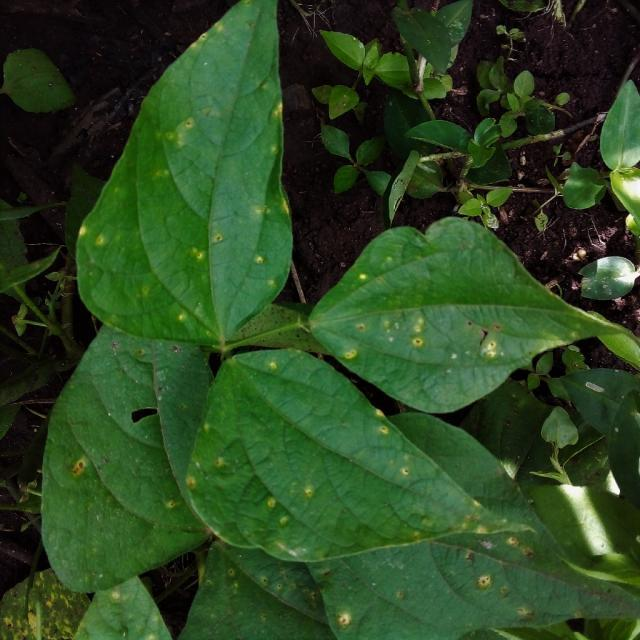embun tepung: (54, 138, 549, 532)
